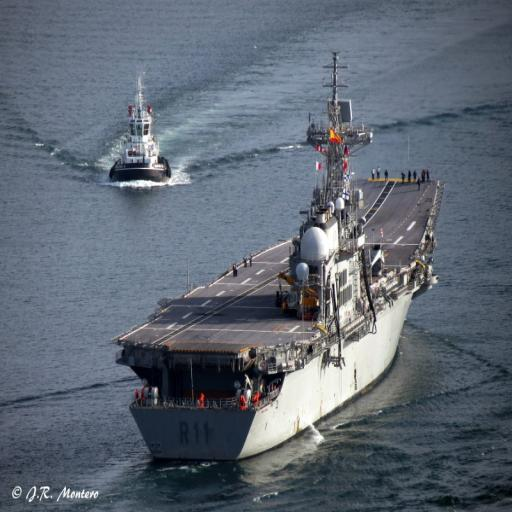Portanaves: (108, 41, 446, 471)
